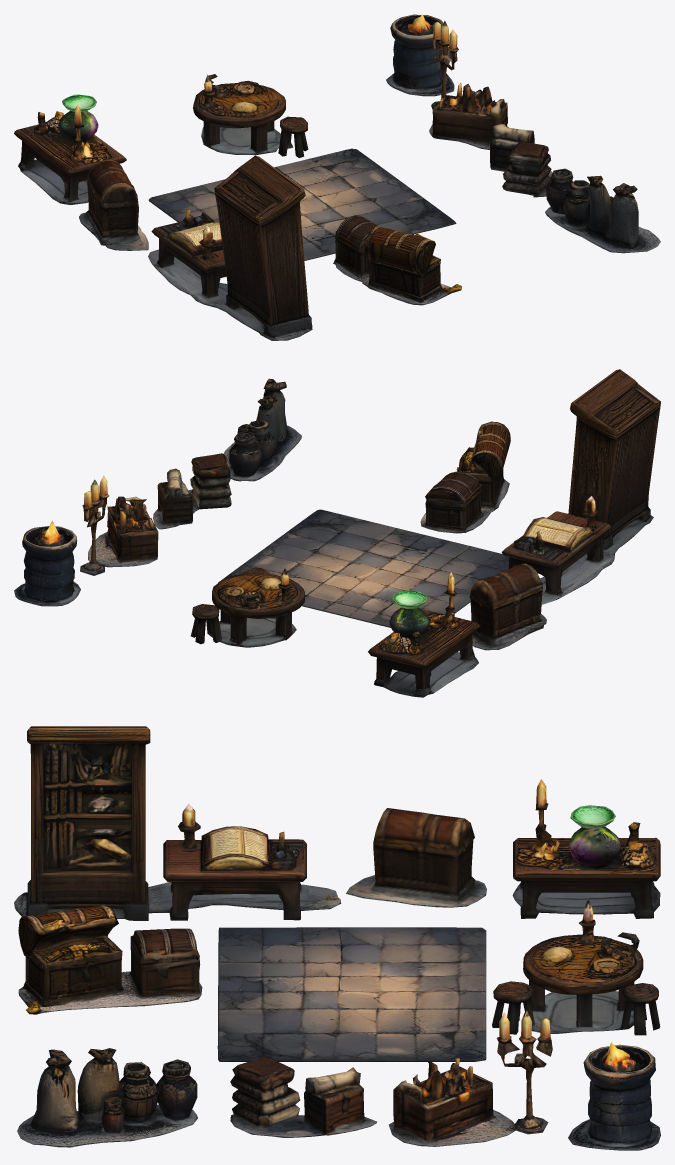
Rendered from Decoración.fbx.
3 renders of one model, top to bottom at view 1: azimuth 30°, elevation 25°; view 2: azimuth 150°, elevation 25°; view 3: azimuth 270°, elevation 25°, orthographic. The views are drawn at different scales.
Parts seen in each view (by area): view 1: meshes[0]; view 2: meshes[0]; view 3: meshes[0].
Boxes of the visible parts, x1,y1,x2,y2 form: meshes[0]: (14,14,660,340); meshes[0]: (14,369,660,697); meshes[0]: (14,726,660,1150).
Bounding box in the file's own units: 1 × 0.318 × 0.9884.
1 material, 1 textured.
